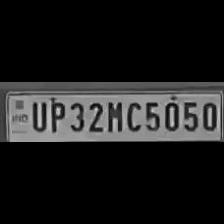0: (161, 98, 179, 132), (200, 98, 218, 132)
2: (84, 99, 104, 134)
3: (66, 99, 84, 133)
5: (141, 98, 161, 132), (180, 98, 198, 132)
C: (124, 97, 142, 132)
M: (104, 98, 122, 134)
P: (47, 98, 65, 134)
U: (28, 97, 46, 132)
